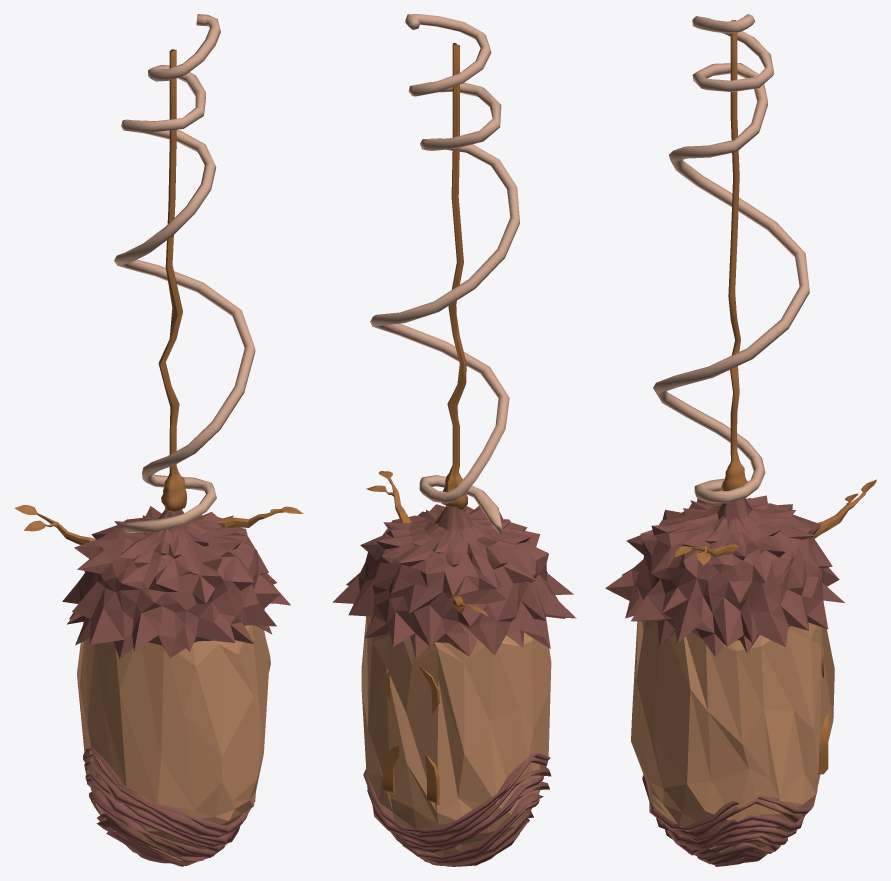
File: 房子长胖.fbx
3 views of the same model, side by side, from view 1: azimuth 30°, elevation 25°; view 2: azimuth 150°, elevation 25°; view 3: azimuth 270°, elevation 25° (orthographic). The views are drawn at different scales.
Visible parts, largest first — view 1: HOUSE2:polySurface1, polySurface2, pDisc1_displacement1, HOUSE2:polySurface4, polySurface5, pasted__pasted__pCube1, pasted__pCube1; view 2: HOUSE2:polySurface1, polySurface2, pDisc1_displacement1, HOUSE2:polySurface4, polySurface5, HOUSE2:pasted__pTorus1, pasted__pCube1; view 3: HOUSE2:polySurface1, polySurface2, pDisc1_displacement1, HOUSE2:polySurface4, polySurface5, pasted__pasted__pCube1, pasted__pCube1.
Part boxes in pixels (<box>): HOUSE2:polySurface1: <box>77,621,270,860</box>; polySurface2: <box>62,506,290,658</box>; pDisc1_displacement1: <box>114,14,255,532</box>; HOUSE2:polySurface4: <box>83,748,255,866</box>; polySurface5: <box>158,49,186,512</box>; pasted__pasted__pCube1: <box>14,505,95,544</box>; pasted__pCube1: <box>216,506,303,527</box>; HOUSE2:polySurface1: <box>361,616,551,856</box>; polySurface2: <box>332,504,576,658</box>; pDisc1_displacement1: <box>370,14,519,533</box>; HOUSE2:polySurface4: <box>363,752,551,866</box>; polySurface5: <box>441,43,468,509</box>; HOUSE2:pasted__pTorus1: <box>383,746,439,805</box>; pasted__pCube1: <box>366,471,411,523</box>; HOUSE2:polySurface1: <box>631,621,834,852</box>; polySurface2: <box>605,495,845,656</box>; pDisc1_displacement1: <box>653,14,809,503</box>; HOUSE2:polySurface4: <box>642,774,817,866</box>; polySurface5: <box>721,20,747,490</box>; pasted__pasted__pCube1: <box>813,479,876,538</box>; pasted__pCube1: <box>675,544,738,565</box>.
Size of the model in its own units: 2.68 by 10.39 by 2.98.
